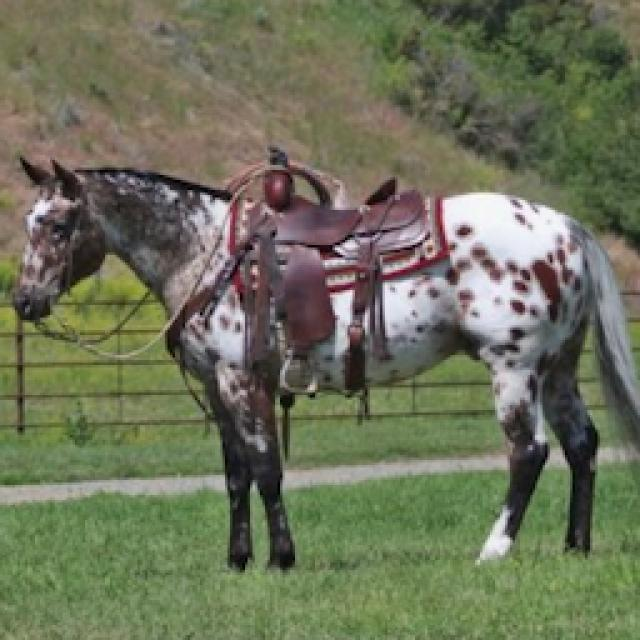Horse: (5, 140, 638, 578)
